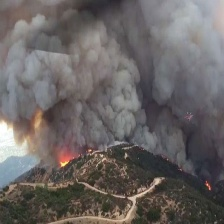fire: (54, 157, 76, 170)
smoke: (1, 1, 224, 171), (204, 180, 213, 192)
